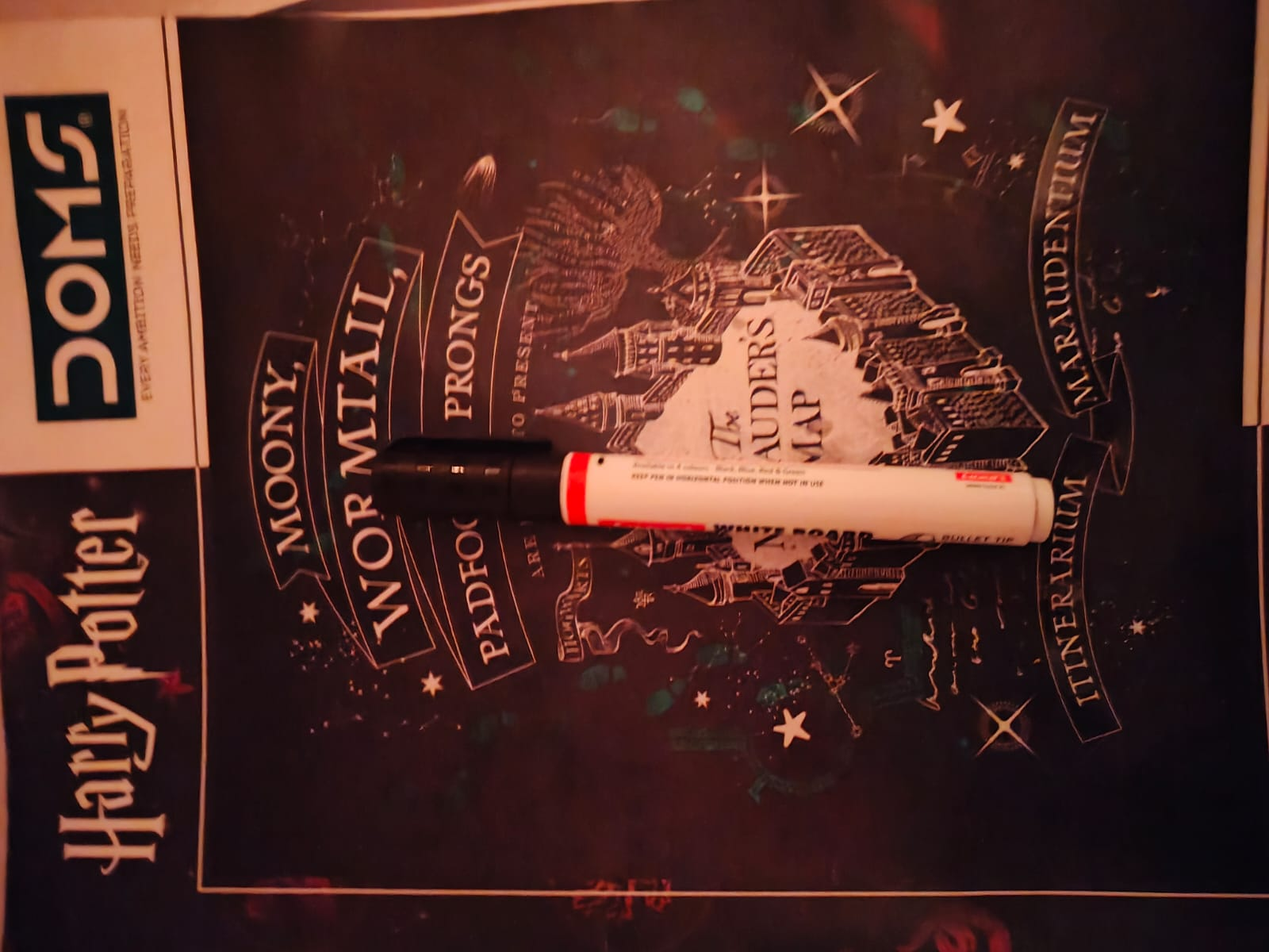case: (358, 422, 1074, 592)
